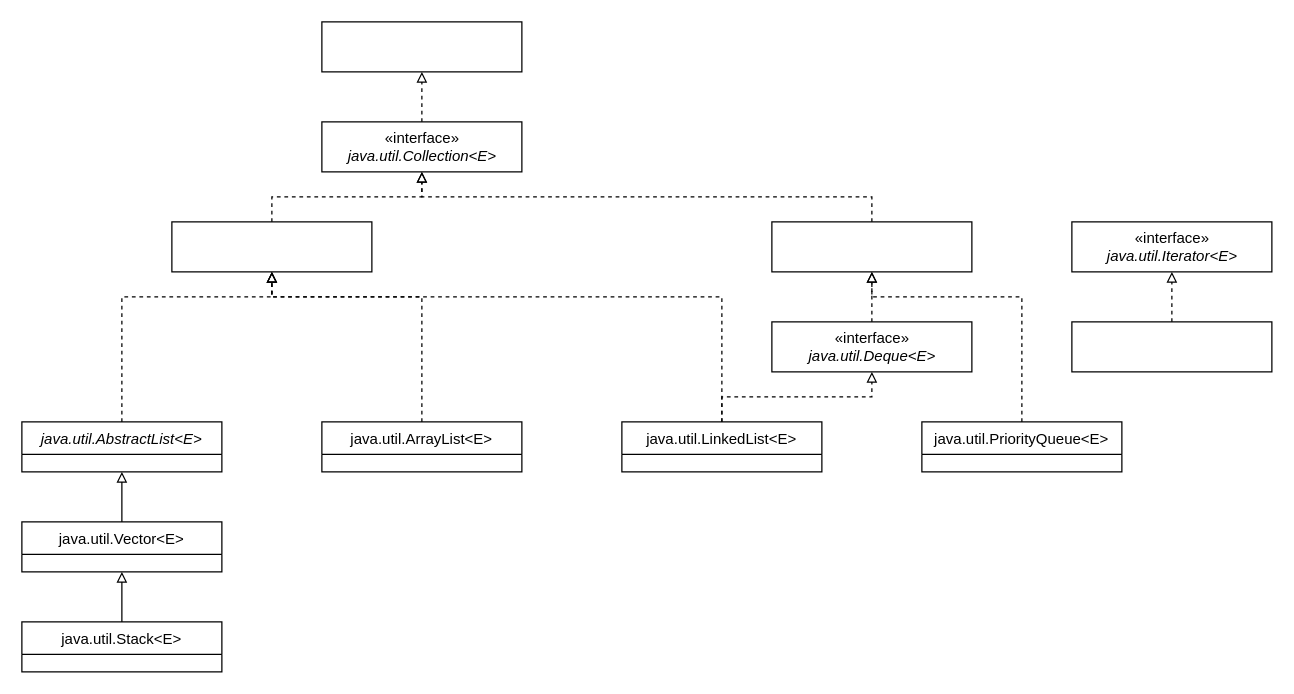
The diagram is 1294 pixels wide and 694 high, and some of its shapes have lost their labels. Here are the shapes that lost their labels. From the top down, the centre of each, then its label:
At point 421,46: "«interface» java.util.Iterable<E>".
At point 271,246: "«interface» java.util.List<E>".
At point 871,246: "«interface» java.util.Queue<E>".
At point 1171,346: "«interface» java.util.ListIterator<E>".
